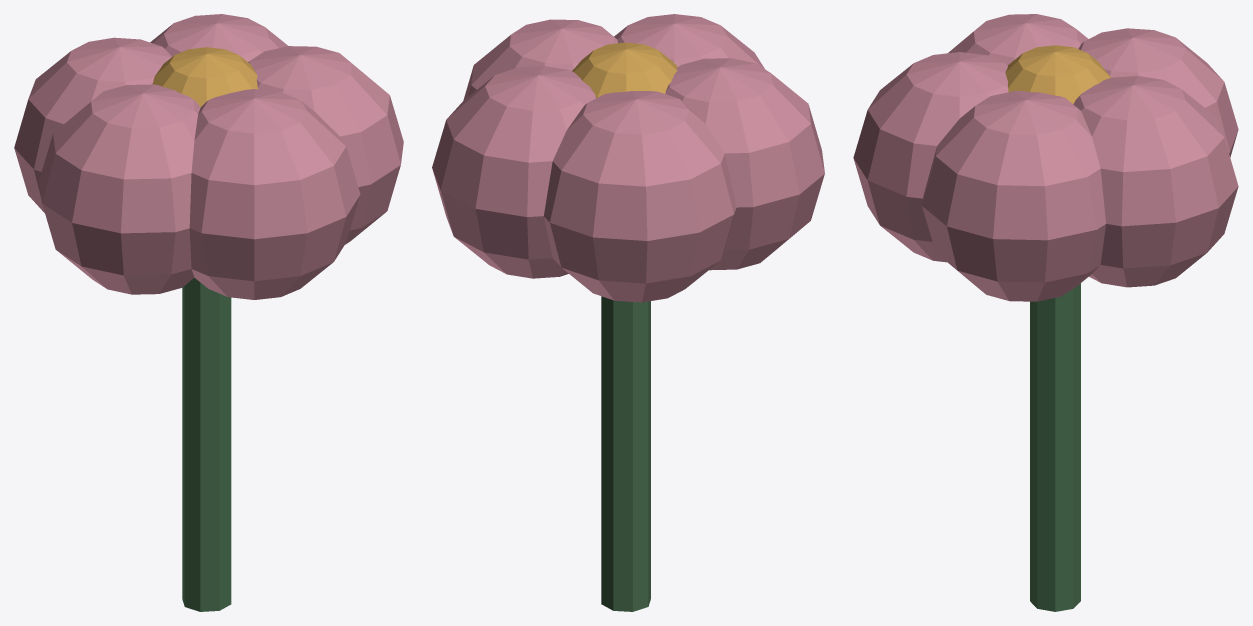
The model's file is flower.gltf.
3 renders of one model, left to right at view 1: azimuth 30°, elevation 25°; view 2: azimuth 150°, elevation 25°; view 3: azimuth 270°, elevation 25°, orthographic.
Parts seen in each view (by area): view 1: petals, stem, centre; view 2: petals, stem, centre; view 3: petals, stem, centre.
Part boxes in pixels (left/top/right/bottom): petals: left=14, top=14, right=403, bottom=299; stem: left=182, top=278, right=231, bottom=611; centre: left=152, top=47, right=257, bottom=107; petals: left=432, top=14, right=824, bottom=302; stem: left=601, top=296, right=650, bottom=611; centre: left=572, top=42, right=677, bottom=98; petals: left=853, top=14, right=1238, bottom=301; stem: left=1030, top=283, right=1080, bottom=611; centre: left=1005, top=45, right=1111, bottom=103.
Size of the model in its own units: 1.83 by 2.85 by 1.81.
